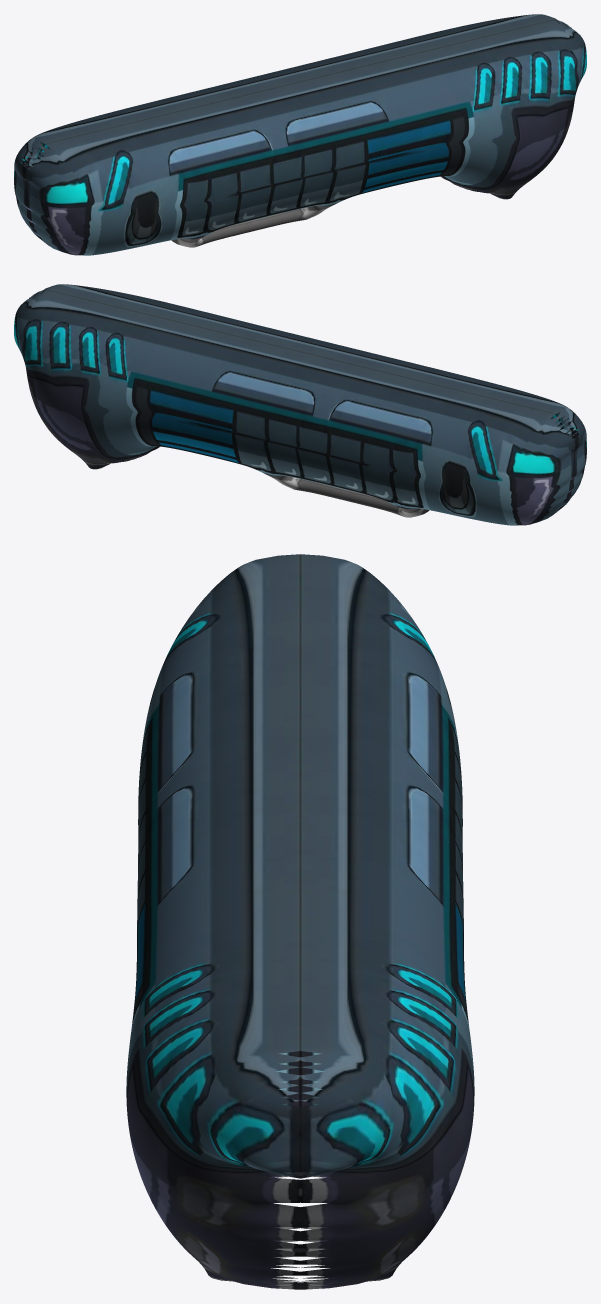
The model's file is edge_machine.glb.
3 views of the same model, one above another, from view 1: azimuth 30°, elevation 25°; view 2: azimuth 150°, elevation 25°; view 3: azimuth 270°, elevation 25° (orthographic). The views are drawn at different scales.
Parts seen in each view (by area): view 1: edge_machine; view 2: edge_machine; view 3: edge_machine.
Boxes of the visible parts, x1,y1,x2,y2 form: edge_machine: (14,14,586,255); edge_machine: (14,284,586,525); edge_machine: (126,554,474,1289).
Size of the model in its own units: 0.989 by 0.2489 by 0.2696.
Materials: 1 (1 with a texture image).
